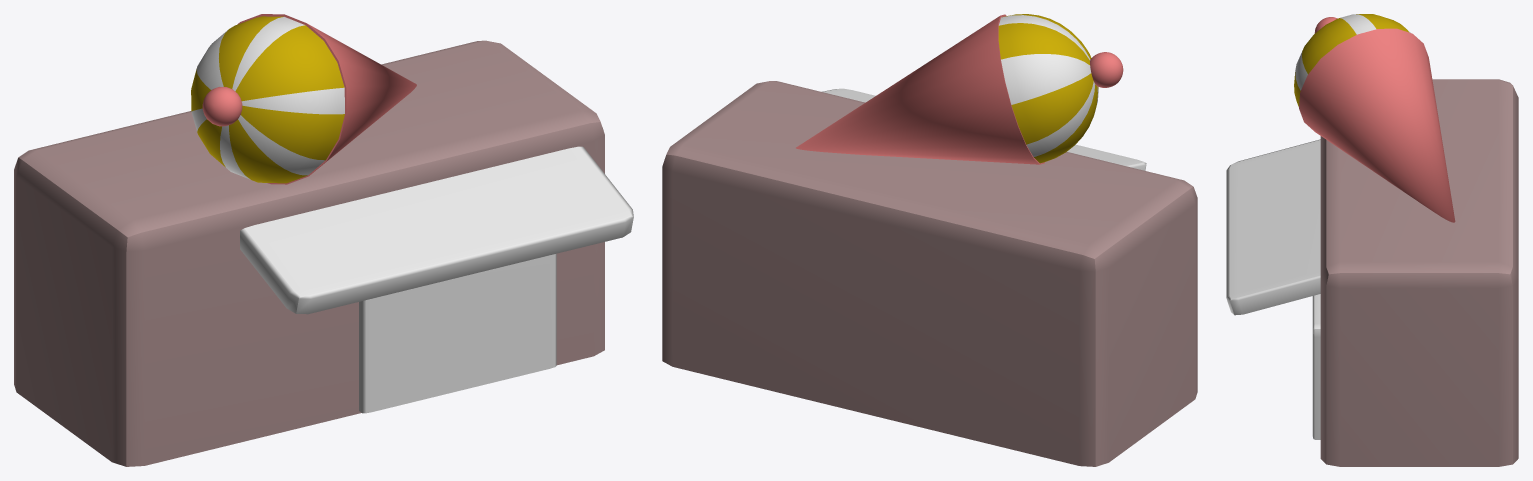
3 renders of one model, left to right at view 1: azimuth 30°, elevation 25°; view 2: azimuth 150°, elevation 25°; view 3: azimuth 270°, elevation 25°, orthographic. The views are drawn at different scales.
Parts seen in each view (by area): view 1: polySurface103; view 2: polySurface103; view 3: polySurface103.
Boxes of the visible parts, bbox=[...] form: polySurface103: bbox=[14, 14, 633, 466]; polySurface103: bbox=[662, 14, 1197, 466]; polySurface103: bbox=[1226, 14, 1518, 466].
Size of the model in its own units: 69.13 by 51.88 by 42.99.
